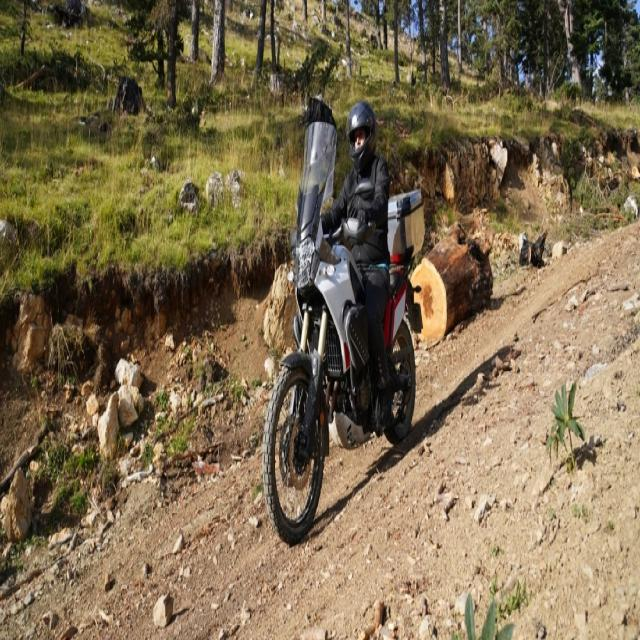motorcycle: (262, 102, 424, 543), (385, 195, 420, 441)
